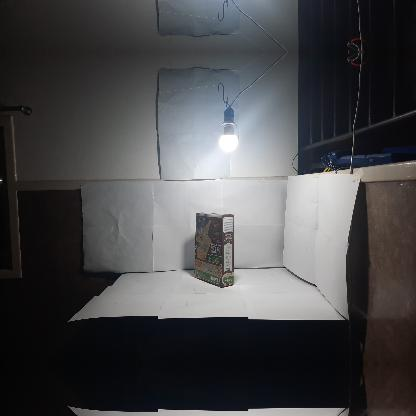Koko-Krunch: (194, 212, 234, 286)
